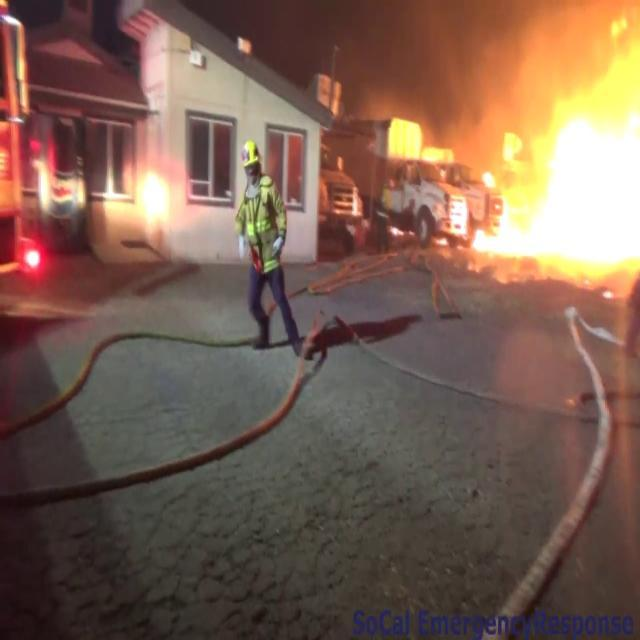Fire: (456, 4, 640, 282)
